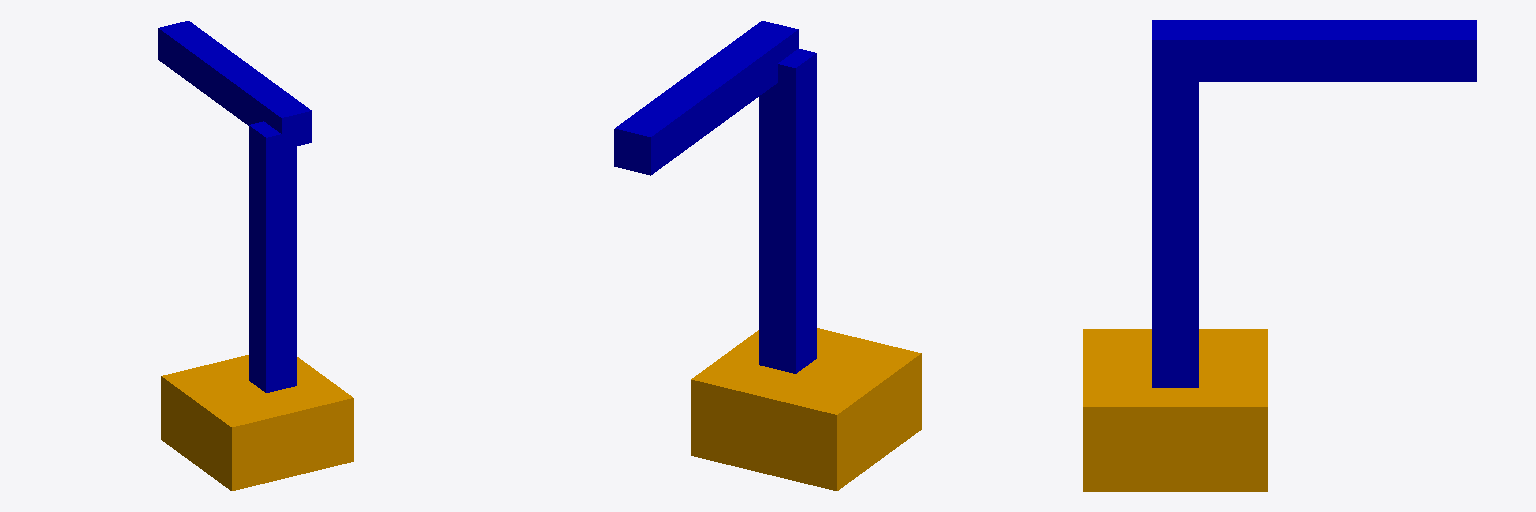
robot.urdf — myrobot:
<?xml version="1.0"?>

<robot name="myrobot">

    <!--Definición de la base del robot-->

    <link name="base_link">

        <inertial>
            <origin xyz="0 0 0.1"/>
            <mass value="10000.0"/>
            <inertia ixx="1.0" ixy="0.0" ixz="0.0"
                               iyy="1.0" iyz="0.0" 
                                         izz="1.0"/>
        </inertial>

        <visual>        
            <origin xyz="0 0 0.1"/>
            <geometry>
                <box size="0.4 0.4 0.2"/>
            </geometry>
        </visual>

        <collision>
            <origin xyz="0 0 0.1"/>
            <geometry>
                <box size="0.4 0.4 0.2"/>
            </geometry>
        </collision>

    </link>

    <!--Definición del color azul-->

    <material name="blue">
        <color rgba="0 0 0.8 1"/>
    </material>

    <!--Definición del cuerpo del robot-->

    <link name="body_link">

        <inertial>
            <origin rpy="0 0 0" xyz="0 0 0.5"/>
            <mass value="1.0"/>
            <inertia ixx="1.0" ixy="0.0" ixz="0.0"
                               iyy="1.0" iyz="0.0" 
                                         izz="1.0"/>
        </inertial>

        <visual>        
            <origin rpy="0 0 0" xyz="0 0 0.5"/>
            <geometry>
                <box size="0.1 0.1 0.8"/>
            </geometry>
            <material name="blue"/>
        </visual>

        <collision>
            <origin rpy="0 0 0" xyz="0 0 0.5"/>
            <geometry>
                <box size="0.1 0.1 0.8"/>
            </geometry>
        </collision>

    </link>

    <!--Definición del brazo del robot-->

    <link name="top_link">

        <inertial>
            <origin rpy="0 0 0" xyz="0 0.3 0.8"/>
            <mass value="1.0"/>
            <inertia ixx="1.0" ixy="0.0" ixz="0.0"
                               iyy="1.0" iyz="0.0" 
                                         izz="1.0"/>
        </inertial>

        <visual>        
            <origin rpy="0 0 0" xyz="0 0.3 0.8"/>
            <geometry>
                <box size="0.1 0.7 0.1"/>
            </geometry>
            <material name="blue"/>
        </visual>

        <collision>
            <origin rpy="0 0 0" xyz="0 0.3 0.8"/>
            <geometry>
                <box size="0.1 0.7 0.2"/>
            </geometry>
        </collision>

    </link>

    <!--Definición del joint entre la base y el cuerpo del robot-->

    <joint name="base_to_body" type="revolute">
        <parent link="base_link"/>
        <child link="body_link"/>
        <dynamics damping="0.0" friction="0.00001"/>
        <origin xyz="0.05 0 0.1"/>
        <axis xyz="0 1 0"/>
        <limit lower="-1.14" upper="1.14" effort="10.0" velocity="0.5"/>
    </joint>

    <!--Definición del joint entre el cuerpo y el brazo del robot-->

    <joint name="body_to_top" type="continuous">
        <parent link="body_link"/>
        <child link="top_link"/>
        <dynamics damping="0.0" friction="0.00001"/>
        <origin xyz="0.05 0 0.1"/>
        <axis xyz="0 0 1"/>
    </joint>

</robot>

--- Facts derived from the render (not from the file) ---
The picture shows the robot from 3 angles, left to right: view 1: azimuth 30°, elevation 25°; view 2: azimuth 150°, elevation 25°; view 3: azimuth 270°, elevation 25°; orthographic projection.
Model myrobot with 3 links and 2 joints (1 revolute, 1 continuous), rooted at base_link, posed all joints at 0.
Visible links, largest first — view 1: base_link, body_link, top_link; view 2: base_link, body_link, top_link; view 3: base_link, top_link, body_link.
Boxes of the visible links, box(x1,y1,x2,y2) form: base_link: box(161, 355, 353, 490); body_link: box(249, 121, 296, 392); top_link: box(158, 21, 311, 145); base_link: box(691, 328, 921, 490); body_link: box(759, 49, 816, 373); top_link: box(614, 21, 798, 175); base_link: box(1083, 329, 1267, 491); top_link: box(1152, 20, 1476, 81); body_link: box(1152, 82, 1198, 387).
Size in the robot's own frame: 0.4 by 0.85 by 1.05 metres.
Geometry: primitives only (box / cylinder / sphere), no mesh files.